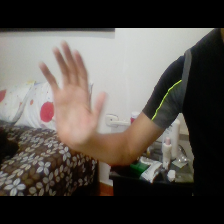left: (37, 38, 110, 152)
